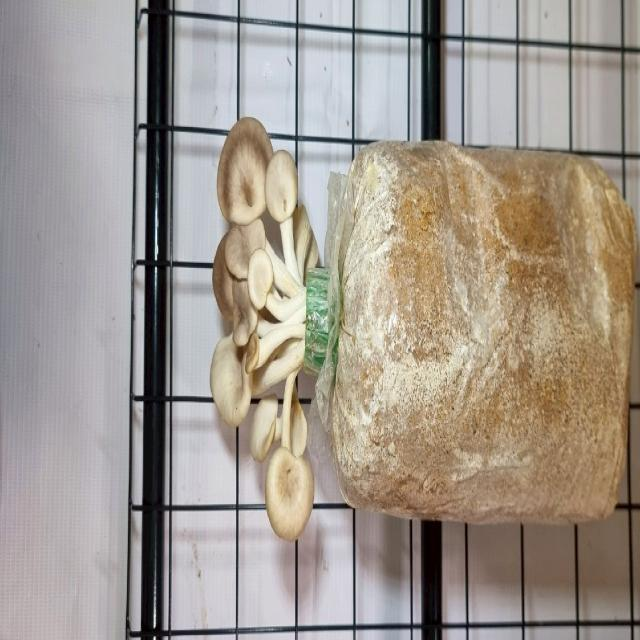normal: (208, 110, 323, 552)
